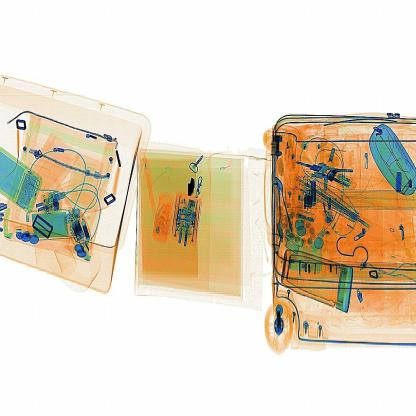knife: (180, 172, 206, 201)
